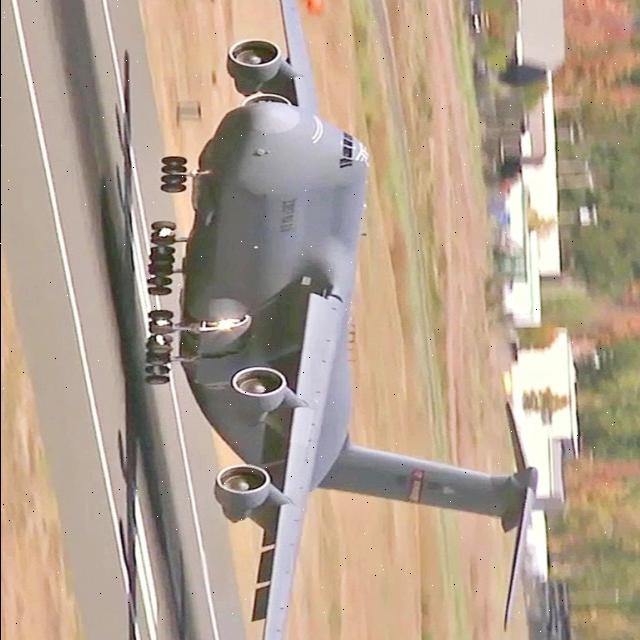C5: (115, 0, 592, 640)
